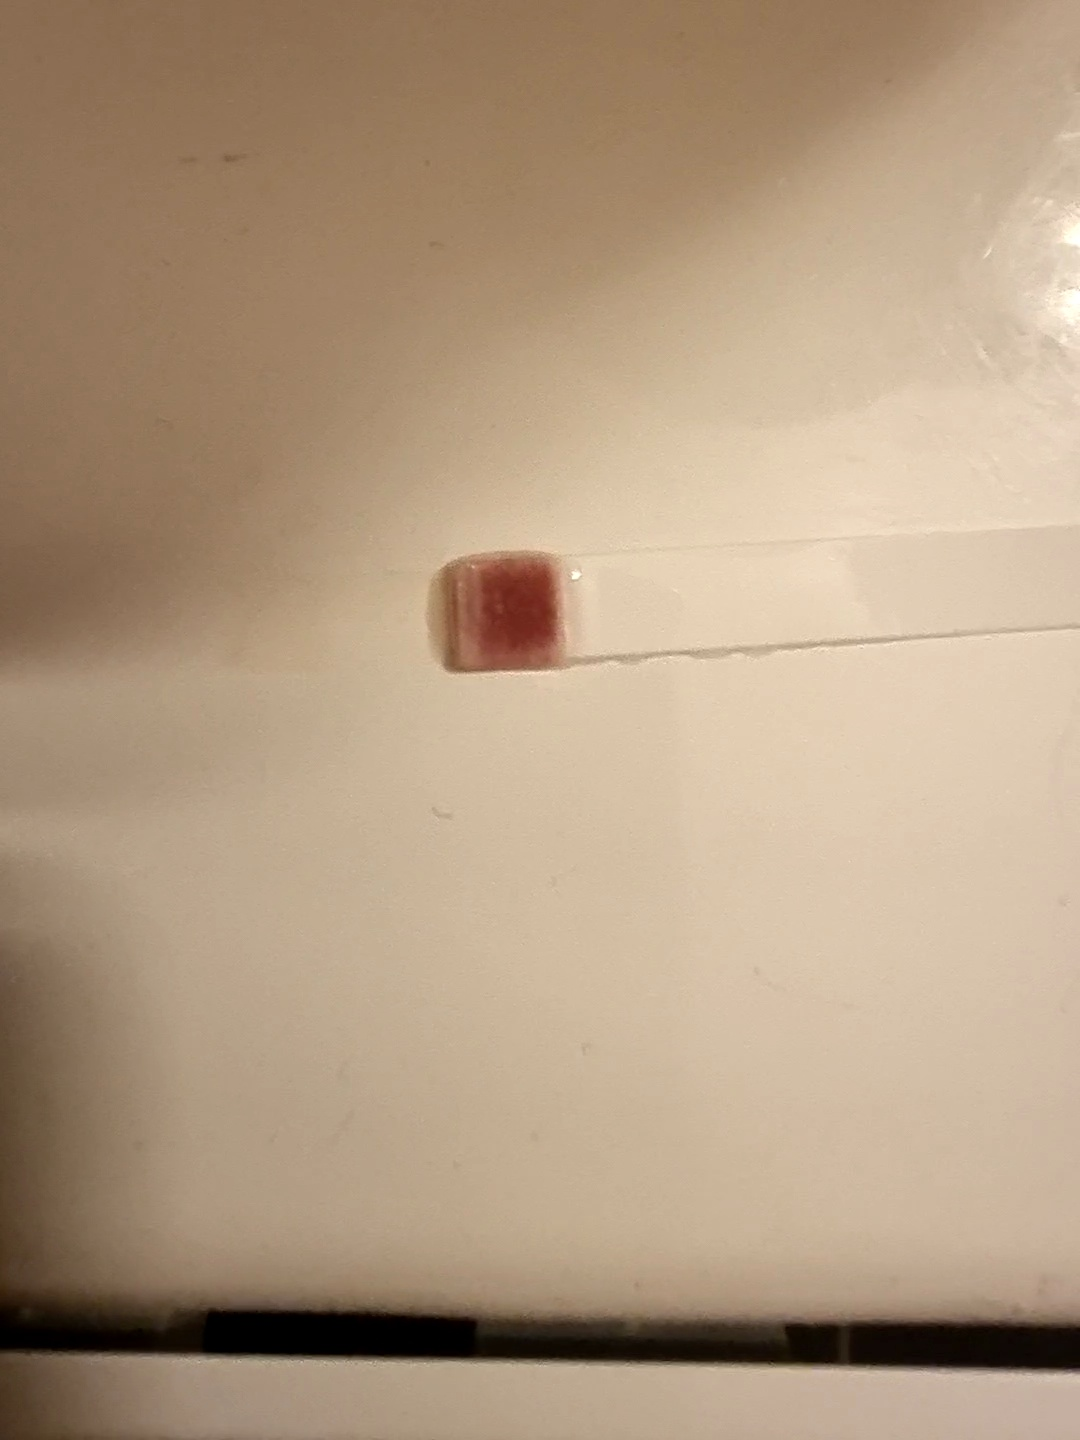keto-tip: (427, 547, 577, 678)
